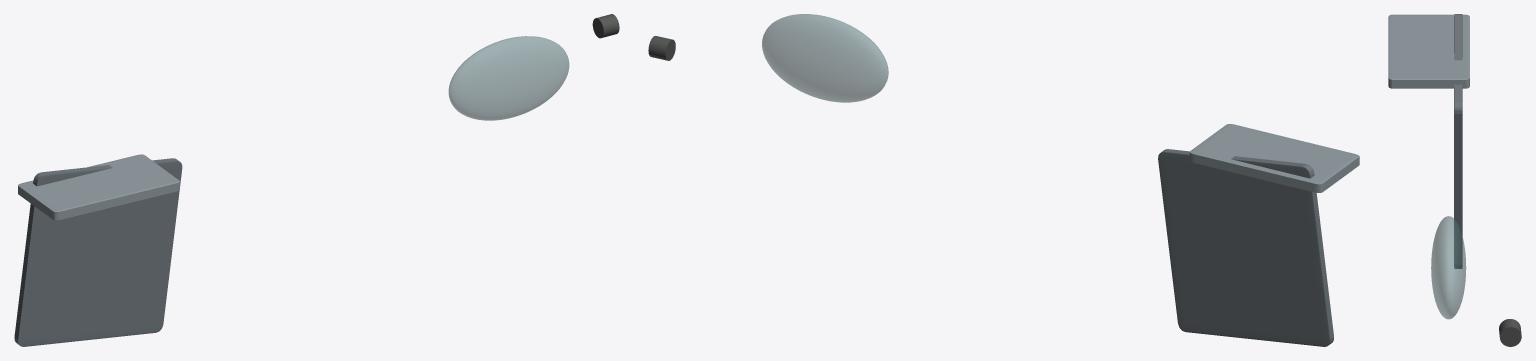
File: s-u26-specter-bomber-lod2.glb
3 views of the same model, side by side, from view 1: azimuth 30°, elevation 25°; view 2: azimuth 150°, elevation 25°; view 3: azimuth 270°, elevation 25° (orthographic). The views are drawn at different scales.
Visible parts, largest first — view 1: combat_tailplane_-1, combat_canopy, combat_fin_0, combat_gun_muzzle_0; view 2: combat_tailplane_-1, combat_canopy, combat_fin_0, combat_gun_muzzle_0; view 3: combat_fin_0, combat_canopy, combat_tailplane_-1, combat_gun_muzzle_0.
Boxes of the visible parts, x1,y1,x2,y2 form: combat_tailplane_-1: [14, 158, 182, 346]; combat_canopy: [448, 36, 569, 120]; combat_fin_0: [18, 154, 179, 220]; combat_gun_muzzle_0: [592, 14, 619, 38]; combat_tailplane_-1: [1158, 149, 1333, 346]; combat_canopy: [762, 14, 888, 102]; combat_fin_0: [1189, 124, 1359, 192]; combat_gun_muzzle_0: [648, 36, 675, 60]; combat_fin_0: [1388, 14, 1469, 88]; combat_canopy: [1431, 216, 1466, 319]; combat_tailplane_-1: [1454, 14, 1462, 268]; combat_gun_muzzle_0: [1499, 319, 1521, 346].
Size of what is drawn, in the model's own units: 15.96 by 5.15 by 2.8.
